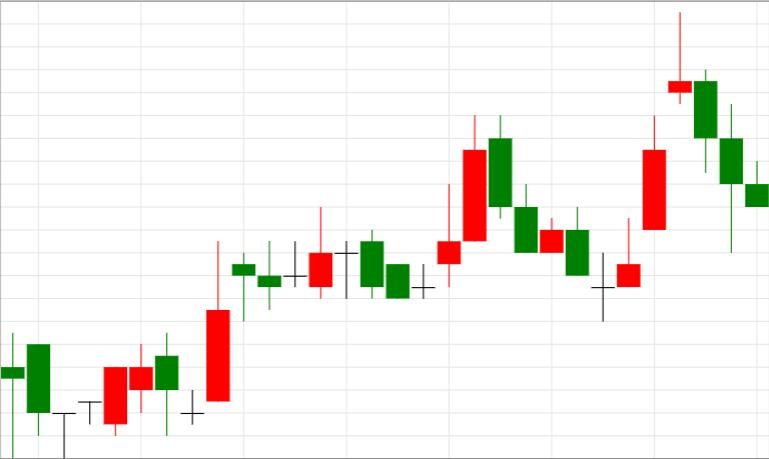three_white_soldiers_rise: (489, 116, 641, 322)
